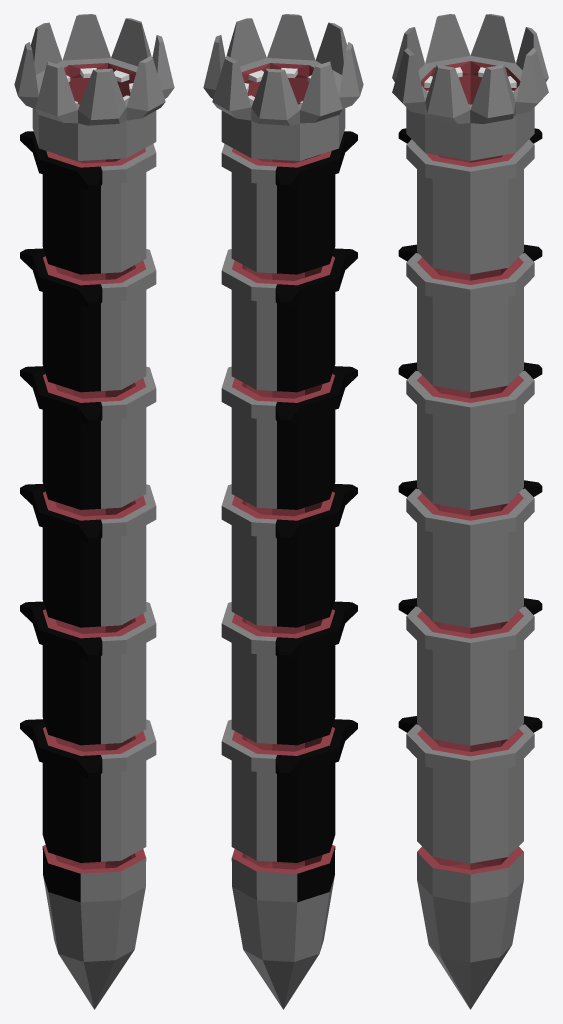
Rendered from Gusano.fbx.
The picture shows the model from 3 angles, left to right: view 1: azimuth 30°, elevation 25°; view 2: azimuth 150°, elevation 25°; view 3: azimuth 270°, elevation 25°; orthographic projection.
Parts seen in each view (by area): view 1: Circle; view 2: Circle; view 3: Circle.
Boxes of the visible parts, x1,y1,x2,y2 form: Circle: [14, 14, 174, 1009]; Circle: [203, 14, 363, 1009]; Circle: [392, 14, 548, 1009].
Bounding box in the file's own units: 2.06 × 14.04 × 2.06.
